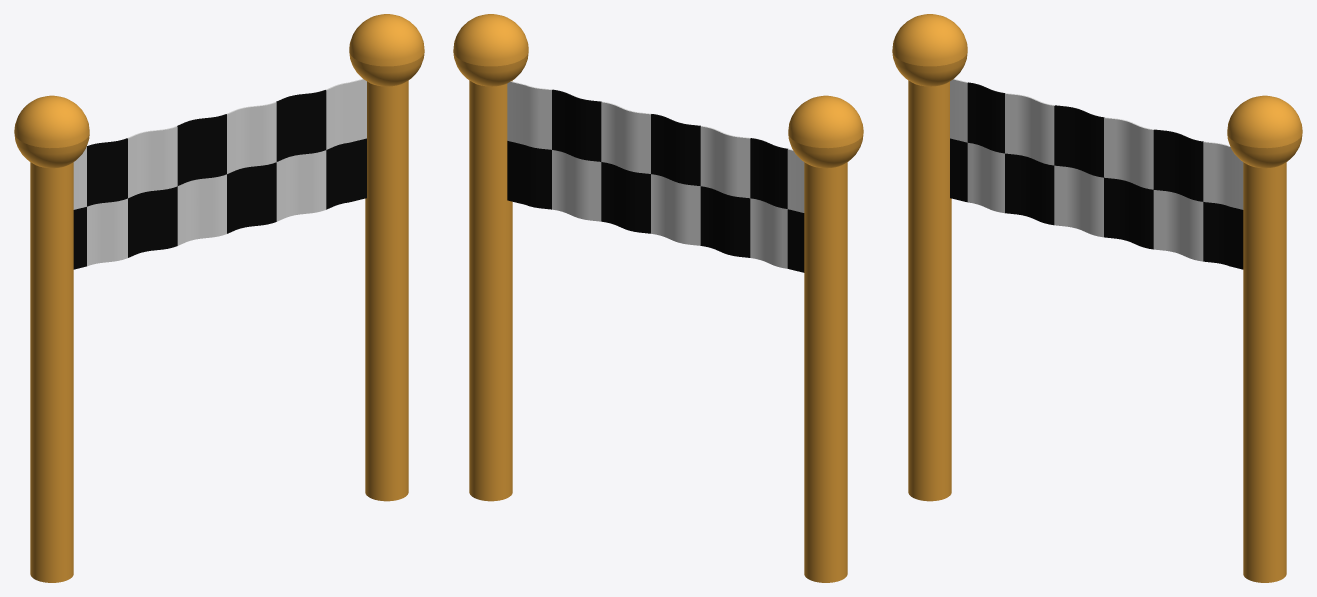
File: meta.fbx
The picture shows the model from 3 angles, left to right: view 1: azimuth 30°, elevation 25°; view 2: azimuth 150°, elevation 25°; view 3: azimuth 330°, elevation 25°; orthographic projection.
Visible parts, largest first — view 1: Cylinder; view 2: Cylinder; view 3: Cylinder.
Boxes of the visible parts, <box> form: Cylinder: <box>14,14,424,582</box>; Cylinder: <box>453,14,863,582</box>; Cylinder: <box>892,14,1302,582</box>.
Size of the model in its own units: 774 by 876 by 127.
